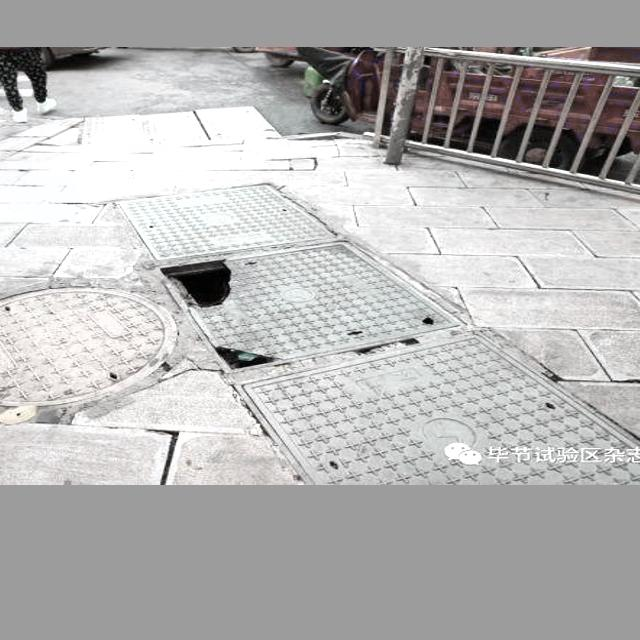broke: (153, 249, 477, 374)
